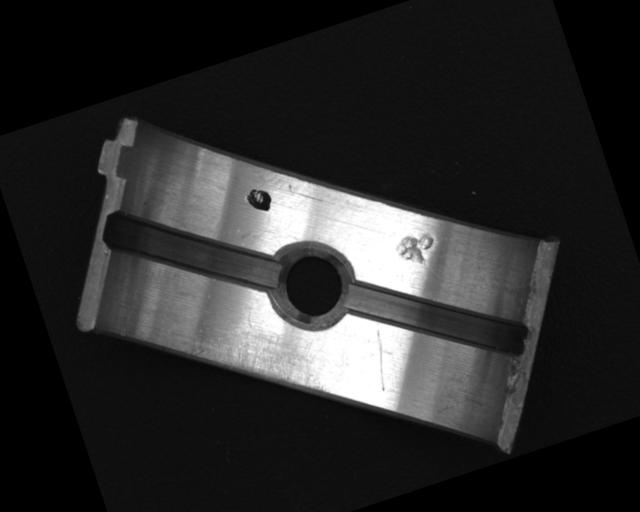blot: (243, 183, 275, 217)
bruise: (393, 227, 442, 273)
gap: (342, 238, 535, 402), (97, 169, 285, 332)
hole: (257, 228, 368, 340)
nick: (361, 321, 400, 391)
scratch: (169, 289, 334, 437)
